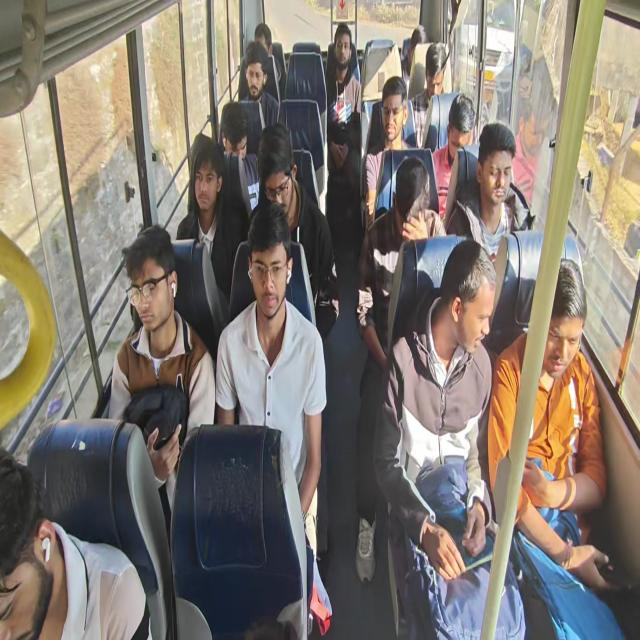person: (0, 421, 65, 640), (538, 256, 590, 372), (442, 254, 497, 352), (129, 249, 181, 347), (257, 134, 297, 215), (218, 105, 254, 184), (253, 229, 286, 315), (190, 154, 222, 223), (480, 140, 508, 209), (446, 95, 472, 167), (378, 94, 412, 145), (422, 47, 446, 106), (242, 59, 270, 104), (327, 26, 353, 73), (403, 25, 425, 68), (254, 17, 272, 53)
